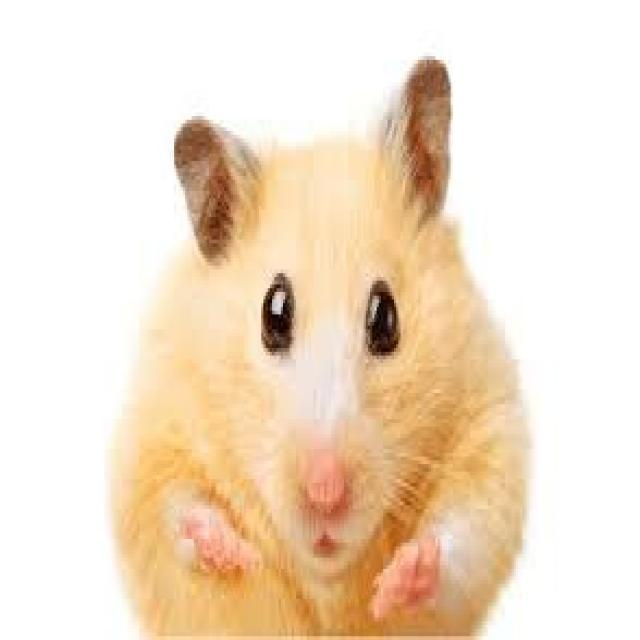hamster: (152, 135, 515, 640)
